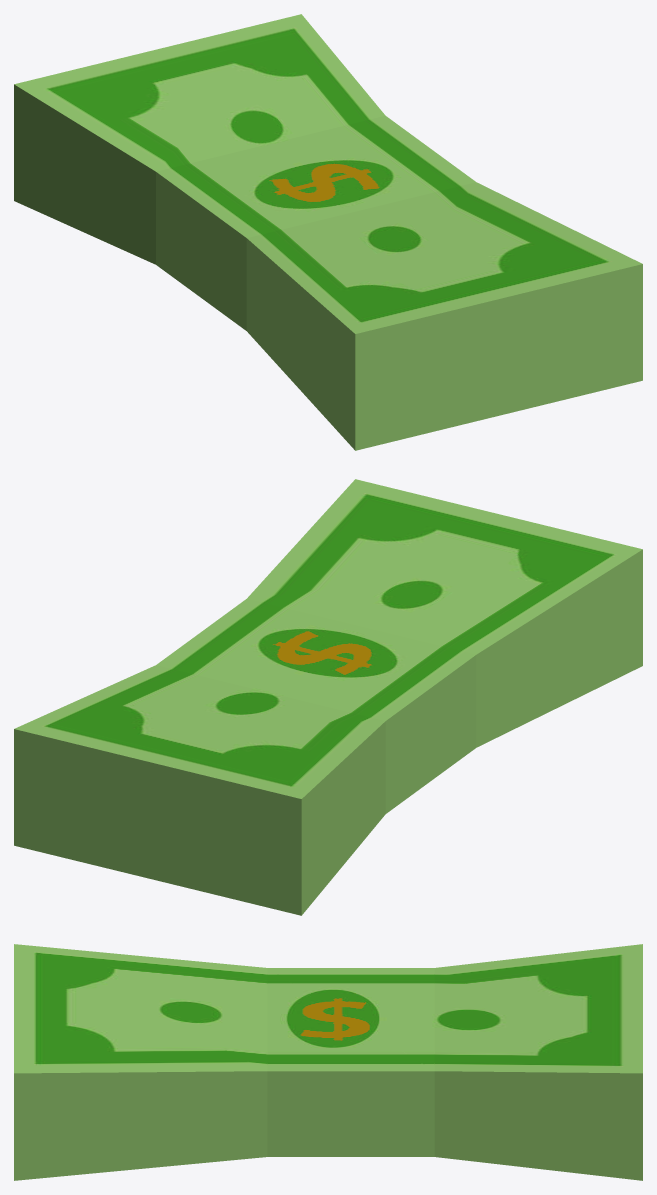
File: money.fbx
The picture shows the model from 3 angles, top to bottom: view 1: azimuth 30°, elevation 25°; view 2: azimuth 150°, elevation 25°; view 3: azimuth 270°, elevation 25°; orthographic projection. The views are drawn at different scales.
Parts seen in each view (by area): view 1: Money; view 2: Money; view 3: Money.
Part boxes in pixels (x1=…): Money: x1=14, y1=14, x2=642, y2=450; Money: x1=14, y1=479, x2=642, y2=915; Money: x1=14, y1=944, x2=642, y2=1180.
Bounding box in the file's own units: 7.62 × 2.95 × 15.67.
